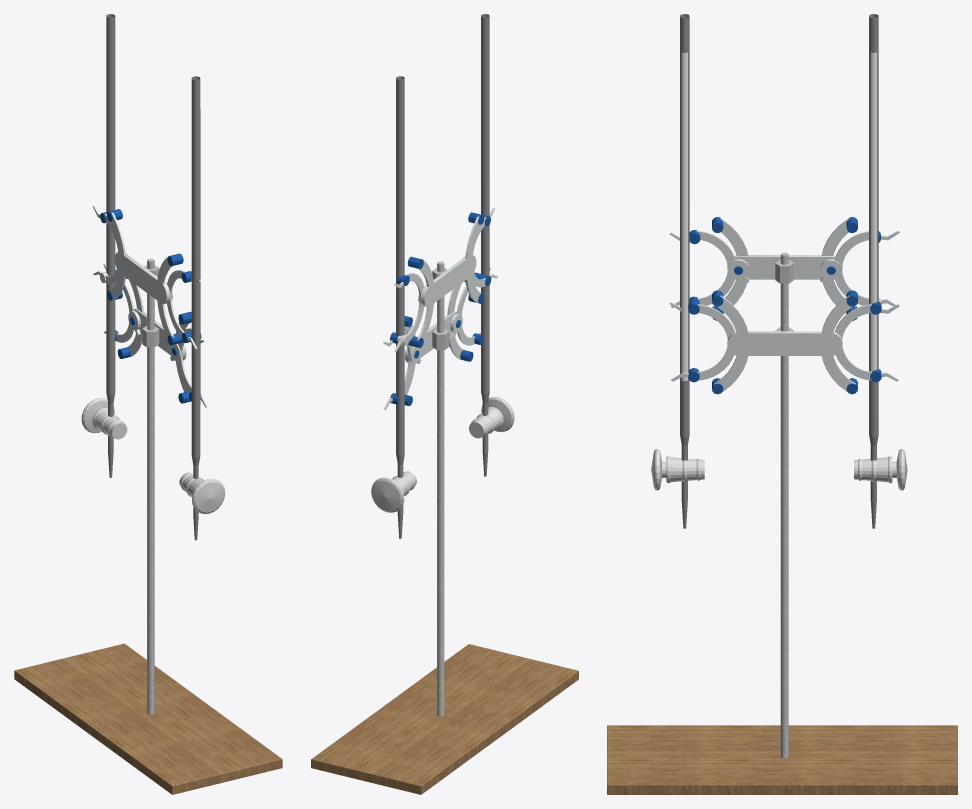
Rendered from SM_酸式滴定管组合.FBX.
3 views of the same model, side by side, from view 1: azimuth 30°, elevation 25°; view 2: azimuth 150°, elevation 25°; view 3: azimuth 270°, elevation 25° (orthographic). The views are drawn at different scales.
Visible parts, largest first — view 1: SM_酸式滴定管_架子, SM_酸式滴定管01_主体, SM_酸式滴定管02_主体, SM_酸式滴定管02_按钮, SM_酸式滴定管01_按钮; view 2: SM_酸式滴定管_架子, SM_酸式滴定管02_主体, SM_酸式滴定管01_主体, SM_酸式滴定管01_按钮, SM_酸式滴定管02_按钮; view 3: SM_酸式滴定管_架子, SM_酸式滴定管02_主体, SM_酸式滴定管01_主体.
Part boxes in pixels (x1=…): SM_酸式滴定管_架子: x1=14, y1=205, x2=282, y2=794; SM_酸式滴定管01_主体: x1=92, y1=14, x2=127, y2=477; SM_酸式滴定管02_主体: x1=179, y1=76, x2=204, y2=540; SM_酸式滴定管02_按钮: x1=192, y1=478, x2=225, y2=513; SM_酸式滴定管01_按钮: x1=81, y1=398, x2=114, y2=433; SM_酸式滴定管_架子: x1=311, y1=208, x2=578, y2=794; SM_酸式滴定管02_主体: x1=469, y1=14, x2=503, y2=476; SM_酸式滴定管01_主体: x1=392, y1=76, x2=416, y2=538; SM_酸式滴定管01_按钮: x1=371, y1=477, x2=404, y2=512; SM_酸式滴定管02_按钮: x1=481, y1=397, x2=514, y2=432; SM_酸式滴定管_架子: x1=607, y1=217, x2=957, y2=794; SM_酸式滴定管02_主体: x1=666, y1=14, x2=704, y2=528; SM_酸式滴定管01_主体: x1=854, y1=14, x2=892, y2=528.
Size of the model in its own units: 180 by 1051 by 445.
